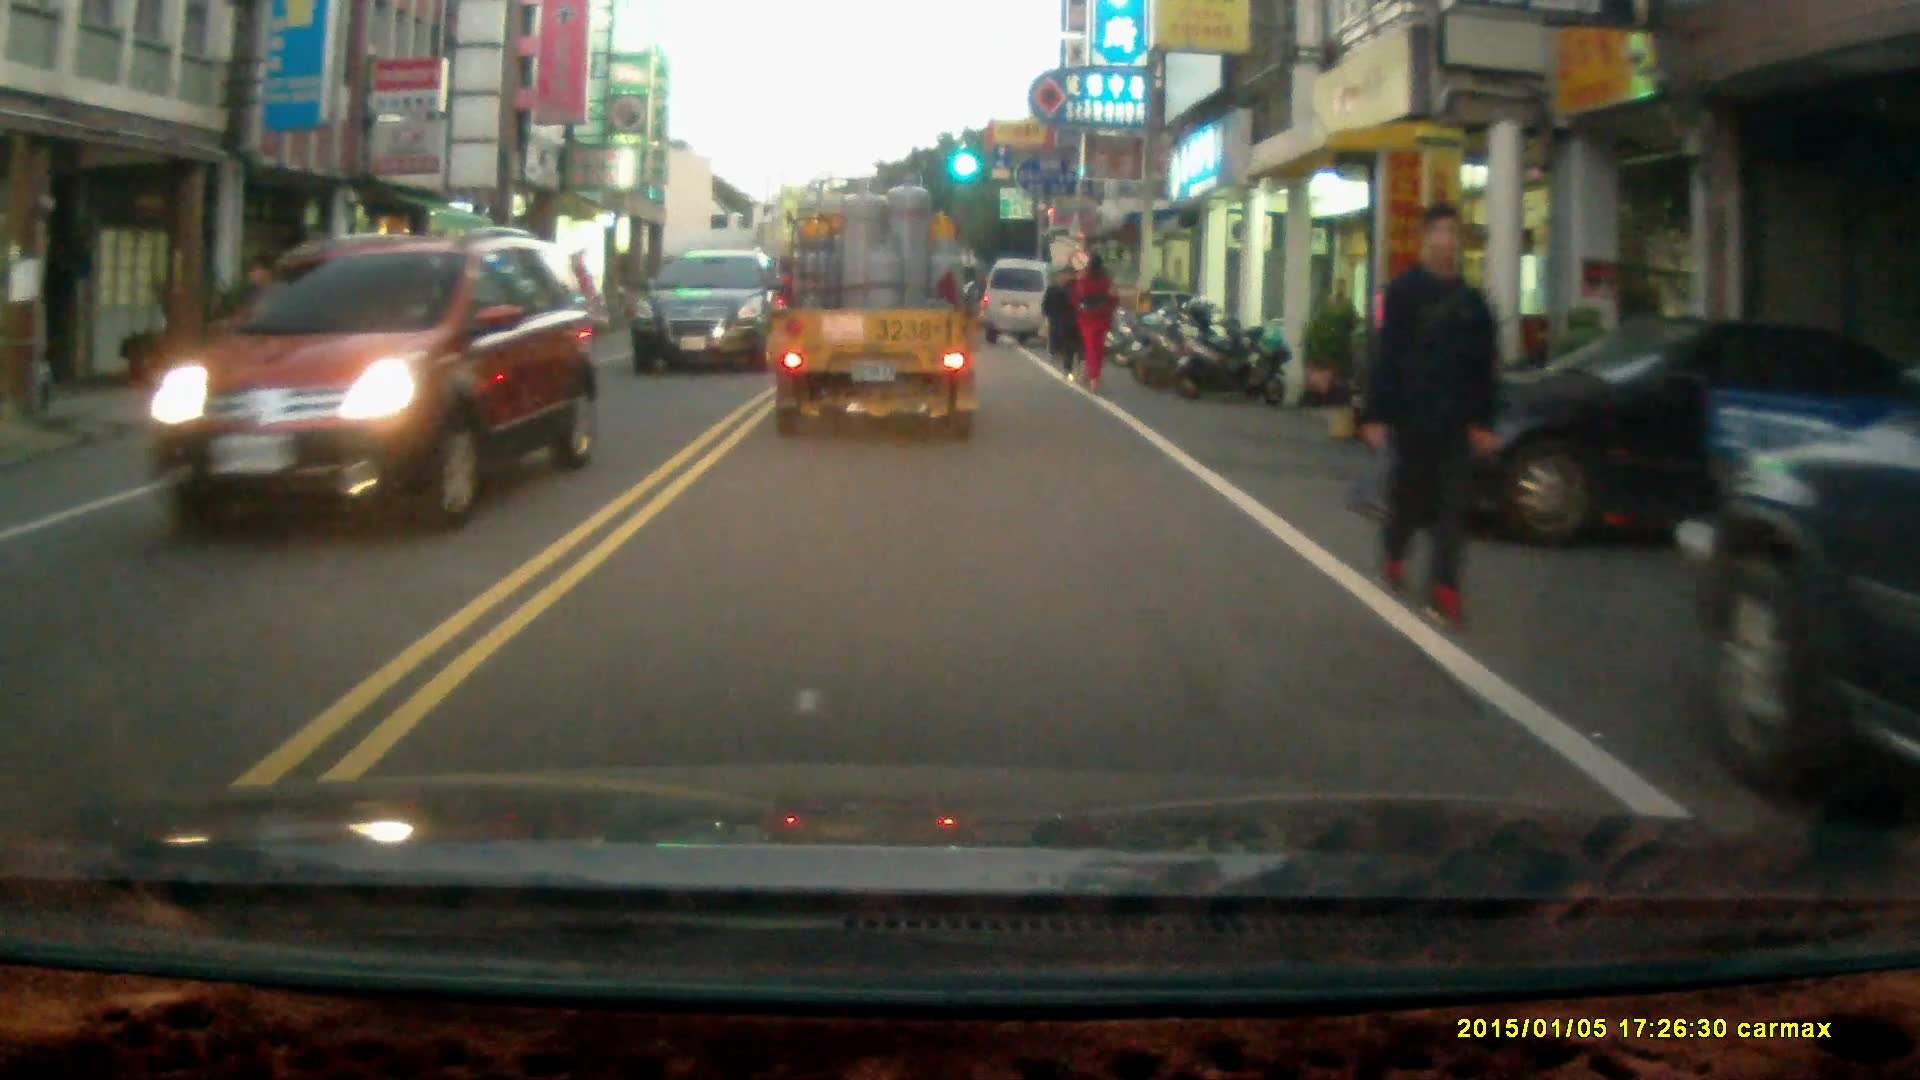pedestrian: (1359, 195, 1506, 628), (1074, 249, 1114, 388), (1052, 264, 1088, 383), (1322, 275, 1354, 360)
vehicle: (1373, 311, 1906, 562), (159, 231, 592, 539), (1690, 343, 1920, 789), (769, 196, 986, 476), (629, 249, 785, 379), (984, 259, 1065, 348)
